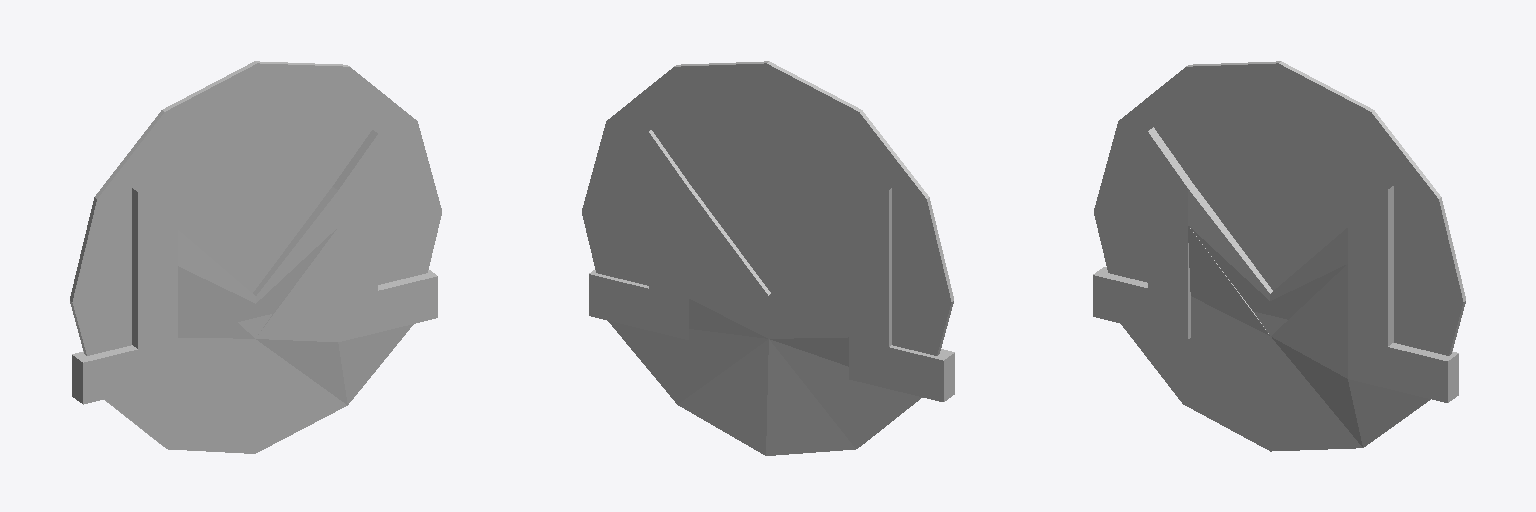
Rendered from XMR.obj.
3 renders of one model, left to right at view 1: azimuth 30°, elevation 25°; view 2: azimuth 150°, elevation 25°; view 3: azimuth 330°, elevation 25°, orthographic.
Parts seen in each view (by area): view 1: group[number redacted], group[number redacted], group[number redacted], group[number redacted], group[number redacted], group[number redacted], group[number redacted], group[number redacted]; view 2: group[number redacted], group[number redacted], group[number redacted], group[number redacted], group[number redacted], group[number redacted], group[number redacted], group[number redacted]; view 3: group[number redacted], group[number redacted], group[number redacted], group[number redacted], group[number redacted], group[number redacted], group[number redacted], group[number redacted].
Boxes of the visible parts, x1,y1,x2,y2 form: group[number redacted]: [70, 61, 441, 355]; group[number redacted]: [104, 228, 413, 453]; group[number redacted]: [132, 188, 177, 348]; group[number redacted]: [333, 130, 377, 299]; group[number redacted]: [72, 340, 177, 404]; group[number redacted]: [338, 270, 437, 341]; group[number redacted]: [253, 186, 337, 311]; group[number redacted]: [178, 230, 273, 321]; group[number redacted]: [582, 61, 953, 355]; group[number redacted]: [608, 226, 922, 455]; group[number redacted]: [849, 188, 891, 346]; group[number redacted]: [649, 130, 690, 297]; group[number redacted]: [849, 338, 954, 401]; group[number redacted]: [589, 270, 688, 339]; group[number redacted]: [689, 186, 787, 321]; group[number redacted]: [769, 228, 848, 320]; group[number redacted]: [1094, 61, 1465, 355]; group[number redacted]: [1121, 226, 1430, 451]; group[number redacted]: [1348, 186, 1393, 346]; group[number redacted]: [1148, 127, 1192, 297]; group[number redacted]: [1348, 337, 1458, 402]; group[number redacted]: [1093, 267, 1190, 339]; group[number redacted]: [1188, 184, 1288, 319]; group[number redacted]: [1270, 228, 1347, 318].
Bounding box in the file's own units: 0.74 × 0.74 × 0.05.